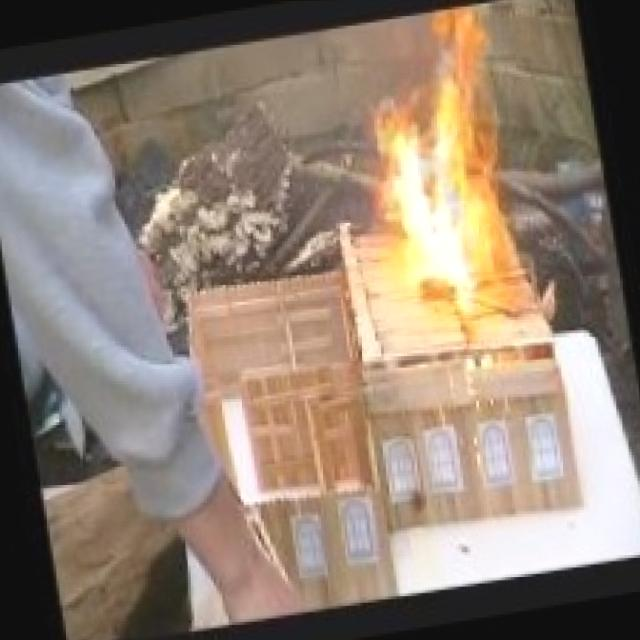fire: (347, 2, 544, 314)
